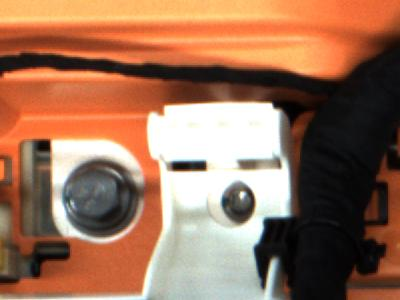nut_b: (58, 157, 139, 237)
